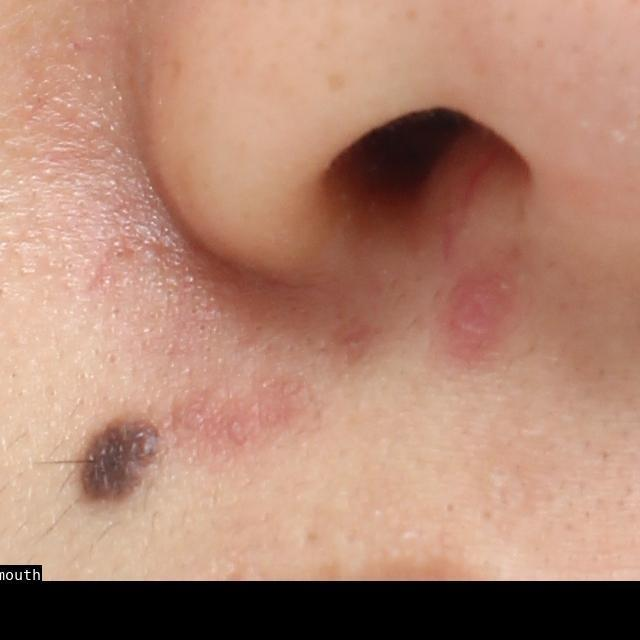nevus: (67, 410, 167, 512)
